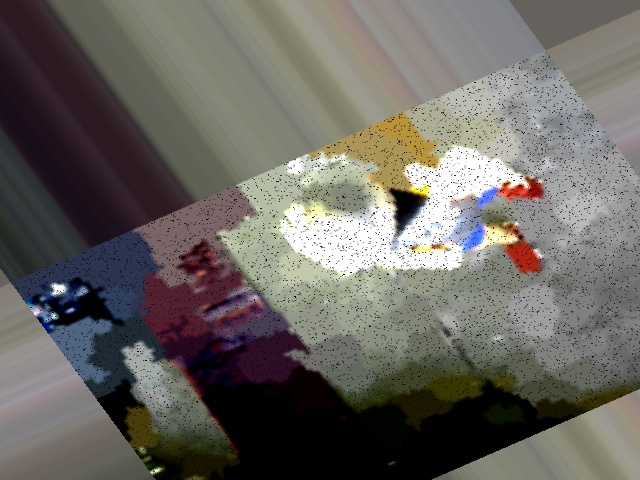eight: (273, 179, 325, 209)
